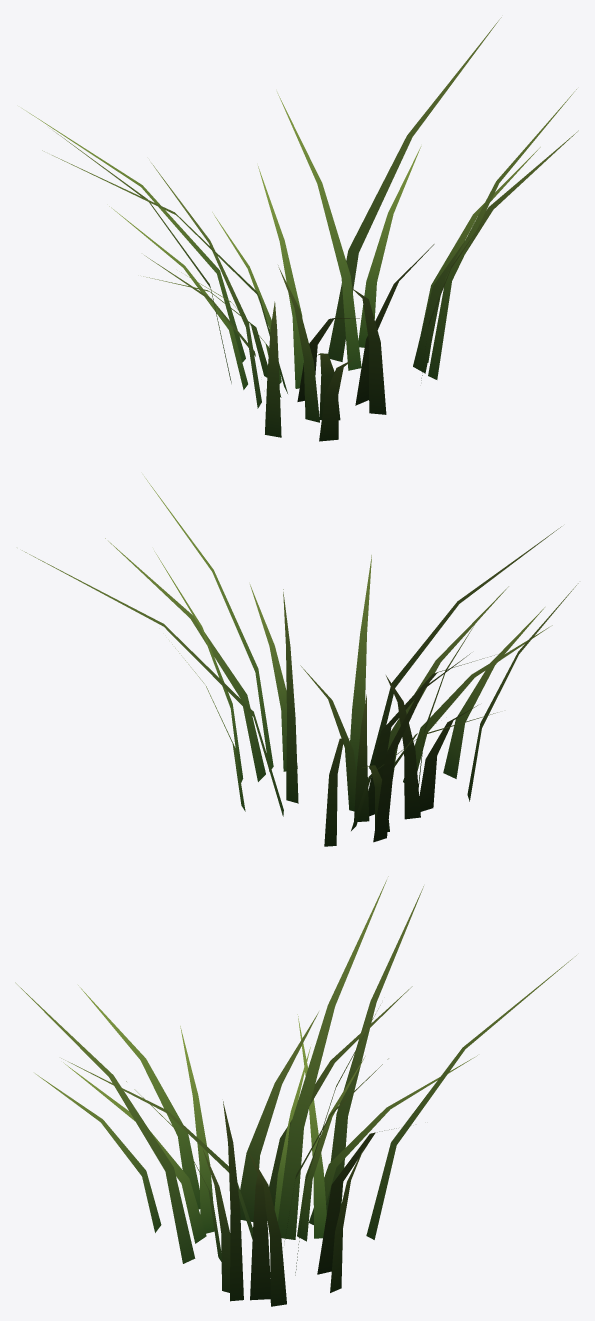
Rendered from grass_a.glb.
3 views of the same model, one above another, from view 1: azimuth 30°, elevation 25°; view 2: azimuth 150°, elevation 25°; view 3: azimuth 270°, elevation 25° (orthographic). The views are drawn at different scales.
Visible parts, largest first — view 1: grass_a; view 2: grass_a; view 3: grass_a.
Boxes of the visible parts, x1=… form: grass_a: x1=22, y1=17, x2=578, y2=441; grass_a: x1=22, y1=476, x2=578, y2=846; grass_a: x1=15, y1=876, x2=576, y2=1306.
Bounding box in the file's own units: 0.9062 × 0.467 × 0.8837.
